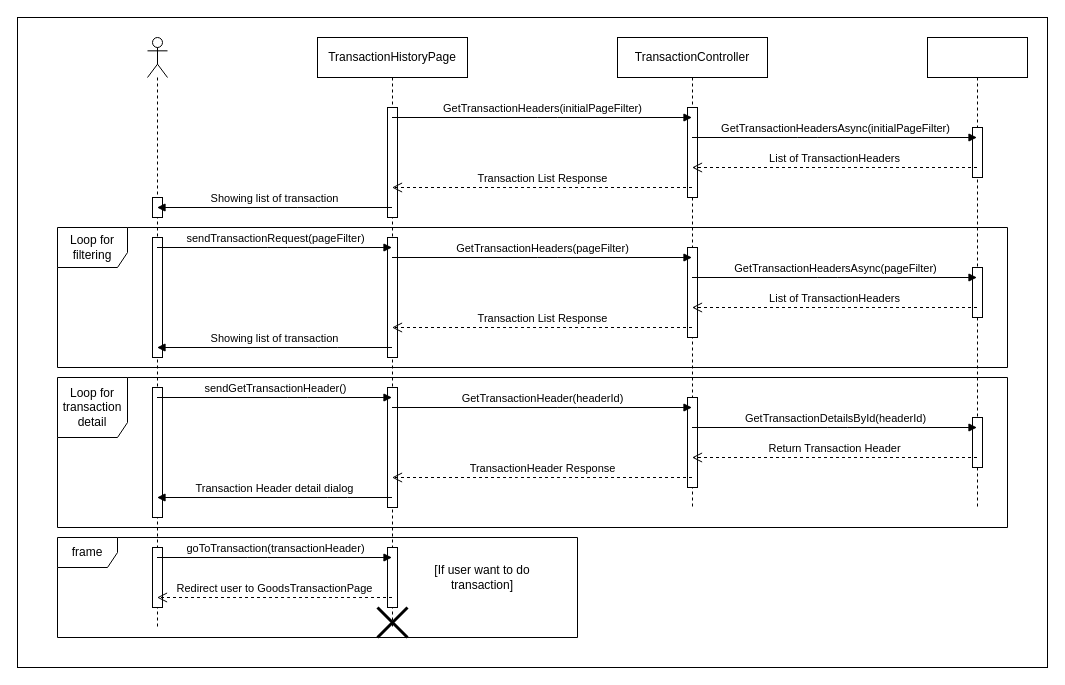
Some shapes in this 1065 by 685 pixel diagram are drawn without their labels. Here are the shapes that lost their labels. From the top down, the centre of each, then its label:
point (977, 272): TransactionRepo
point (157, 332): User
